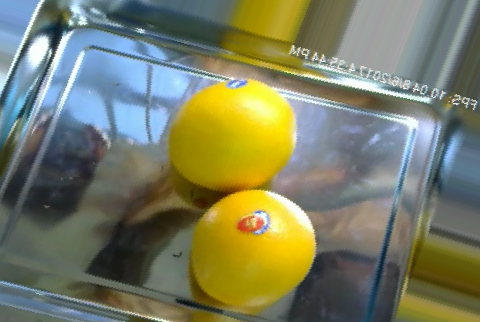Orange: (168, 77, 298, 191), (190, 189, 316, 306)
